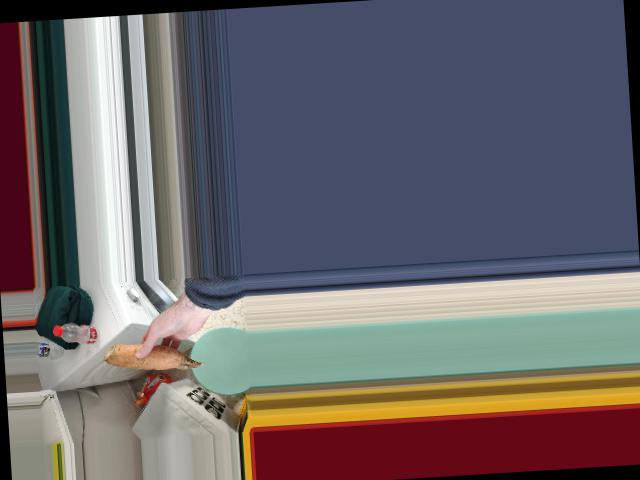sweet_potato: (99, 343, 208, 376)
